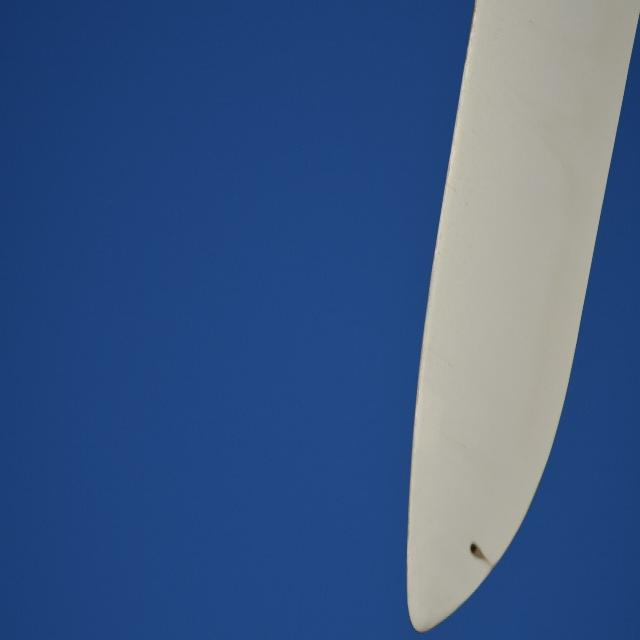Burn Mark: (467, 538, 488, 566)
